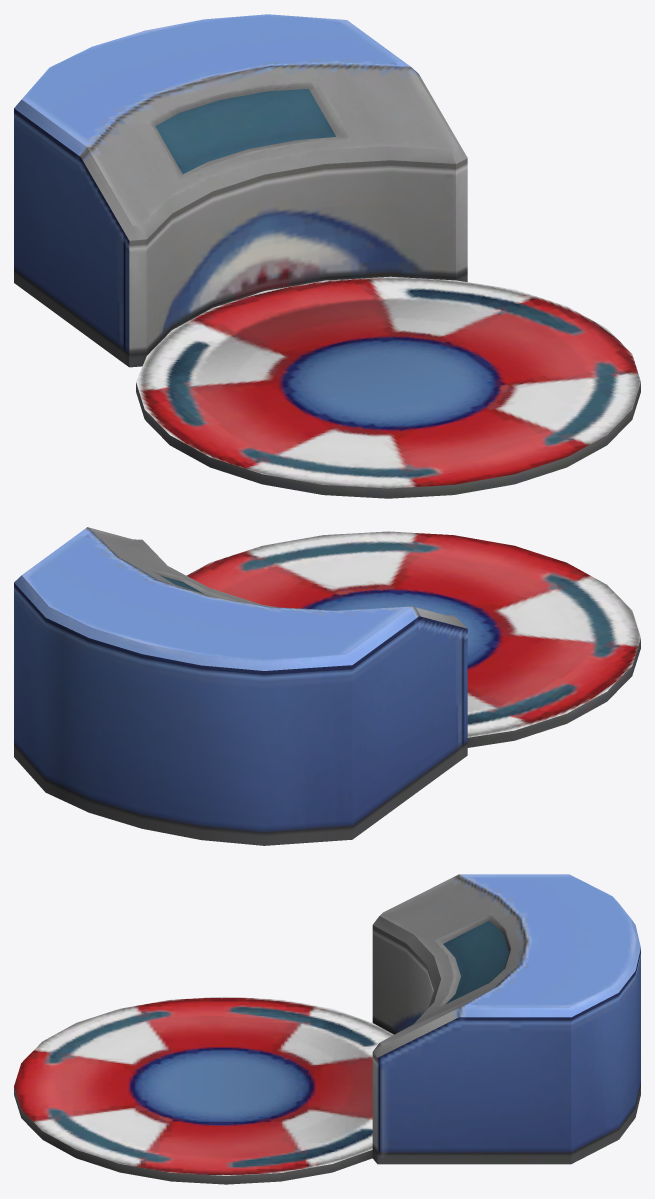
File: baseRoomba.fbx
3 renders of one model, top to bottom at view 1: azimuth 30°, elevation 25°; view 2: azimuth 150°, elevation 25°; view 3: azimuth 270°, elevation 25°, orthographic. The views are drawn at different scales.
Parts seen in each view (by area): view 1: s4studio_mesh_1.001; view 2: s4studio_mesh_1.001; view 3: s4studio_mesh_1.001.
Boxes of the visible parts, x1,y1,x2,y2 form: s4studio_mesh_1.001: (14,14,640,498); s4studio_mesh_1.001: (14,527,640,845); s4studio_mesh_1.001: (14,874,640,1184).
Bounding box in the file's own units: 42.93 × 17.17 × 63.4.
Materials: 1 (1 with a texture image).
